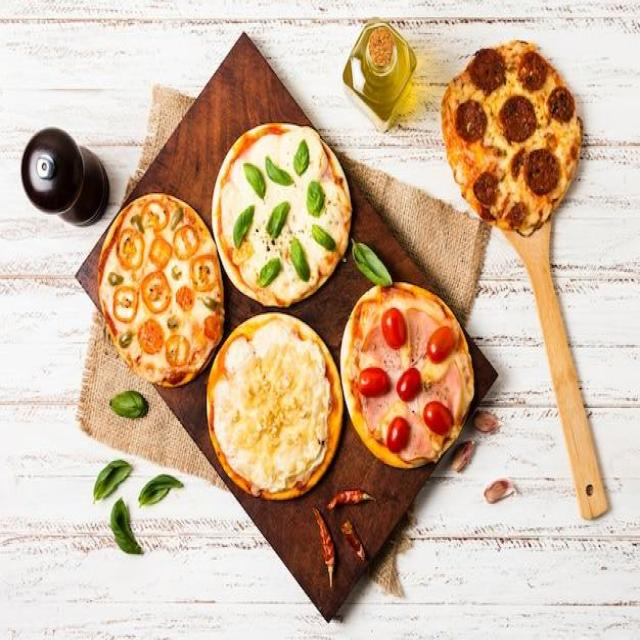basil: (110, 496, 145, 555), (351, 238, 393, 286), (92, 460, 134, 505), (138, 474, 186, 510), (232, 206, 256, 249), (110, 391, 146, 418), (265, 200, 290, 238), (242, 162, 266, 201), (266, 155, 296, 186), (290, 239, 310, 284), (310, 223, 336, 252), (306, 181, 325, 217), (258, 258, 280, 287), (294, 138, 310, 176)
pepperoni: (499, 96, 536, 142), (468, 49, 506, 92), (524, 148, 560, 192), (454, 99, 487, 142), (546, 86, 575, 123), (518, 52, 546, 90), (472, 172, 500, 206), (508, 202, 529, 228), (512, 147, 525, 181)
pizza: (440, 39, 585, 239), (212, 120, 352, 306), (205, 313, 343, 501), (341, 281, 475, 470), (97, 195, 225, 388)
